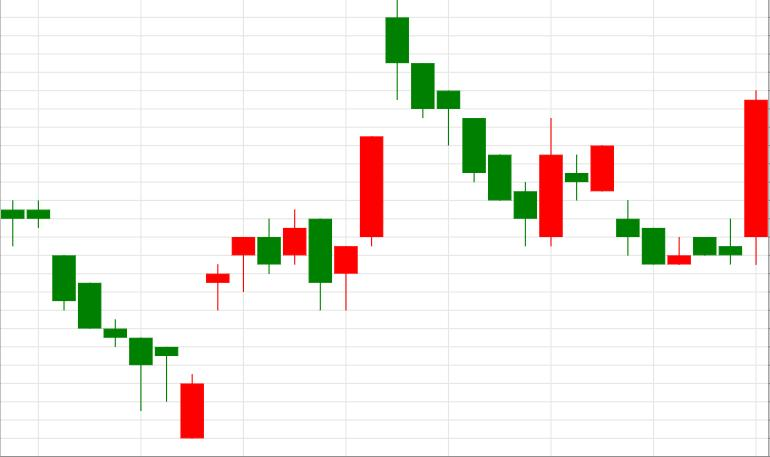hammer_rise: (2, 201, 152, 411)
